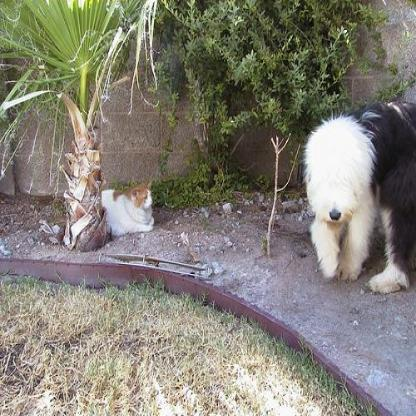Old_English_sheepdog: (300, 98, 414, 294)
